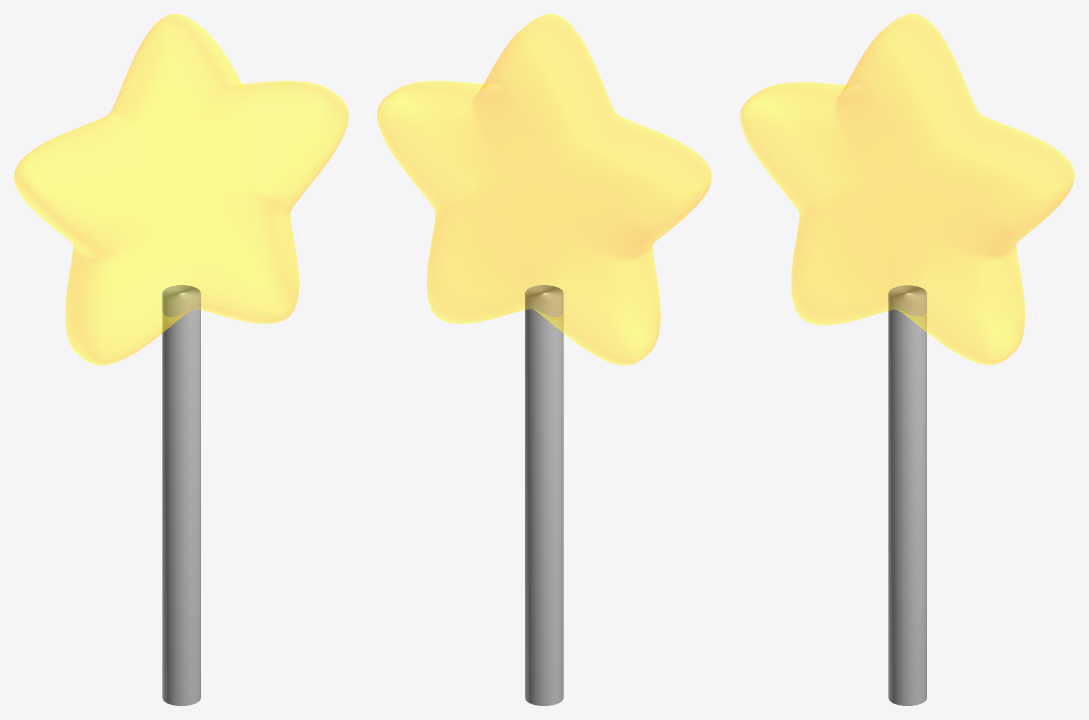
File: star-candy.glb
The picture shows the model from 3 angles, left to right: view 1: azimuth 30°, elevation 25°; view 2: azimuth 150°, elevation 25°; view 3: azimuth 330°, elevation 25°; orthographic projection.
Parts seen in each view (by area): view 1: Star, 円柱; view 2: Star, 円柱; view 3: Star, 円柱.
Part boxes in pixels (x1,y1,x2,y2): Star: (14, 14, 348, 365); 円柱: (162, 285, 200, 705); Star: (377, 14, 711, 365); 円柱: (525, 285, 563, 705); Star: (740, 14, 1074, 365); 円柱: (888, 285, 926, 705).
Bounding box in the file's own units: 1.55 × 3.16 × 0.3569.
